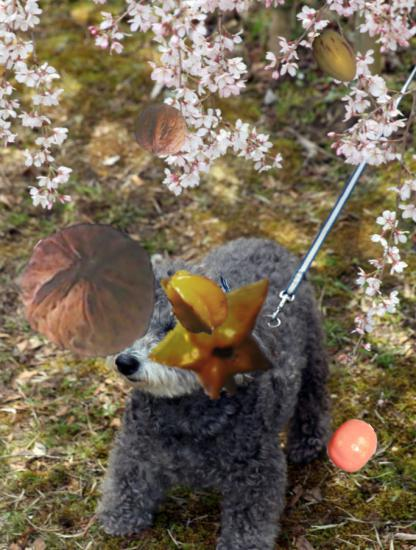Carambula: (142, 264, 283, 405), (159, 265, 234, 340)
Clementine: (325, 418, 379, 472)
Pepino: (307, 29, 365, 87)
Walnut: (20, 219, 162, 361), (134, 102, 189, 157)
